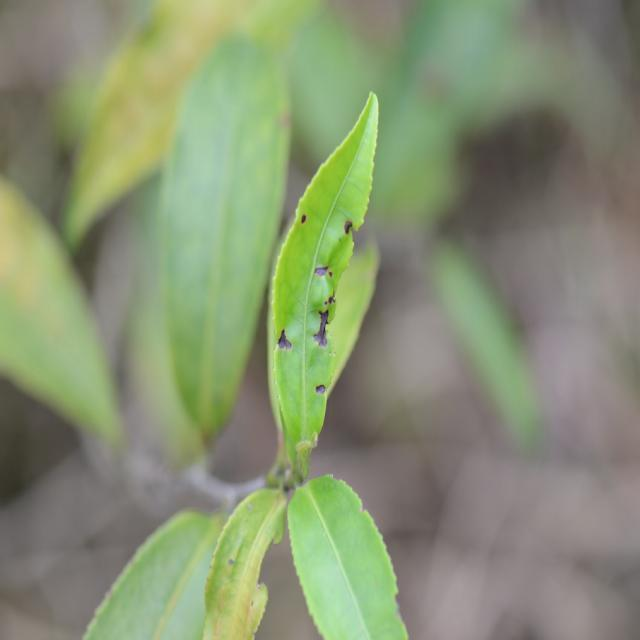Tea red scab: (300, 255, 364, 294), (308, 296, 335, 347), (310, 368, 337, 412), (291, 202, 318, 239), (275, 325, 301, 361), (341, 207, 357, 246)
